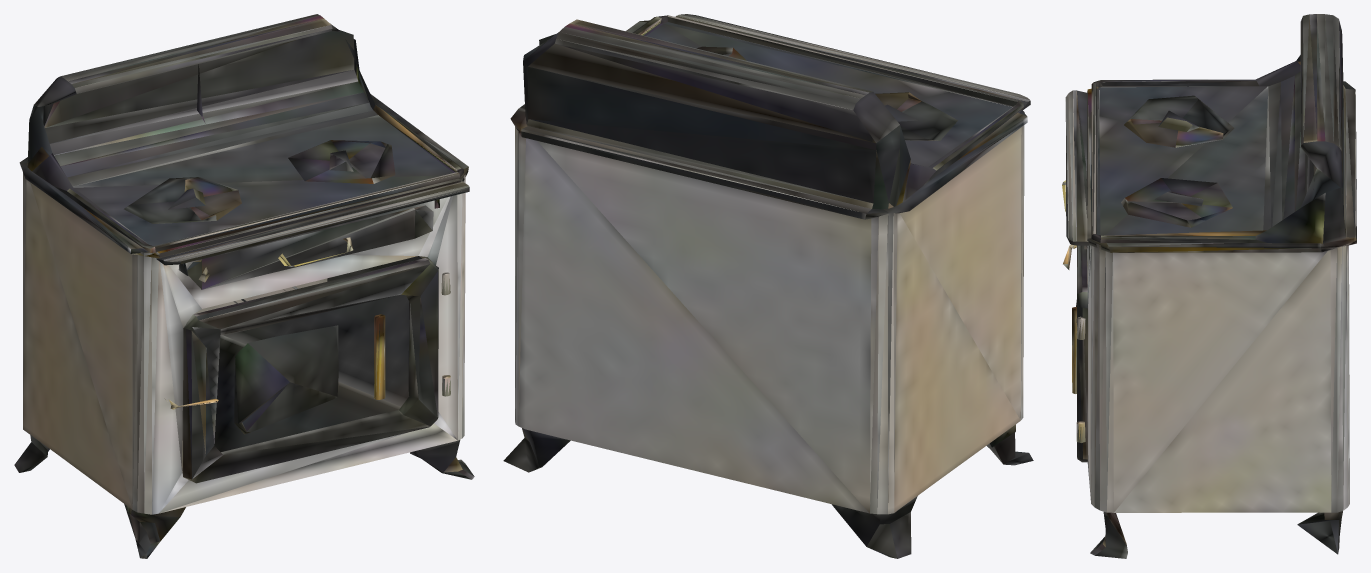
Rendered from stove.lod2.glb.
3 views of the same model, side by side, from view 1: azimuth 30°, elevation 25°; view 2: azimuth 150°, elevation 25°; view 3: azimuth 270°, elevation 25° (orthographic). The views are drawn at different scales.
Size of the model in its own units: 0.8922 by 0.95 by 0.644.
Materials: 1 (1 with a texture image).
